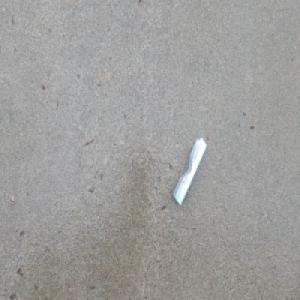ClampPart: (172, 136, 207, 206)
